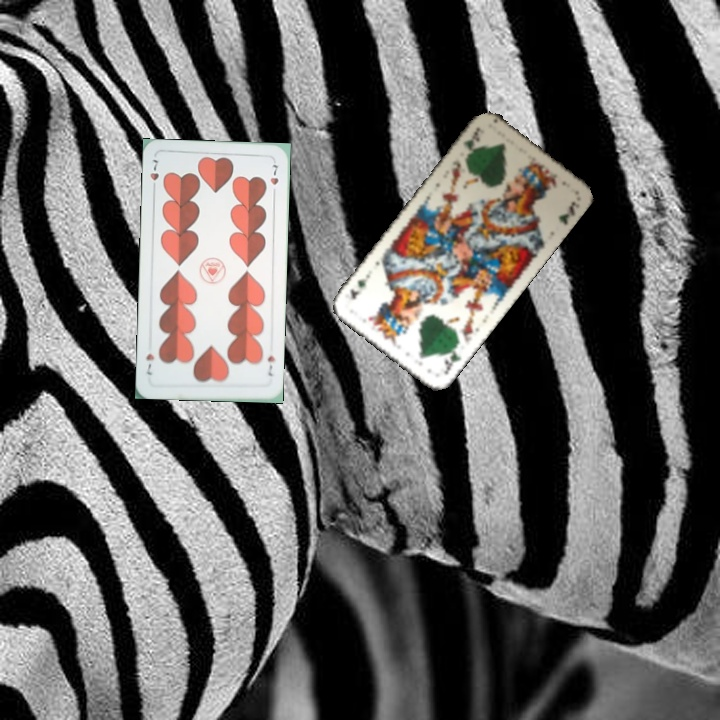GK: (459, 122, 487, 158), (440, 340, 464, 378)
H7: (146, 156, 161, 194), (263, 352, 277, 379)
